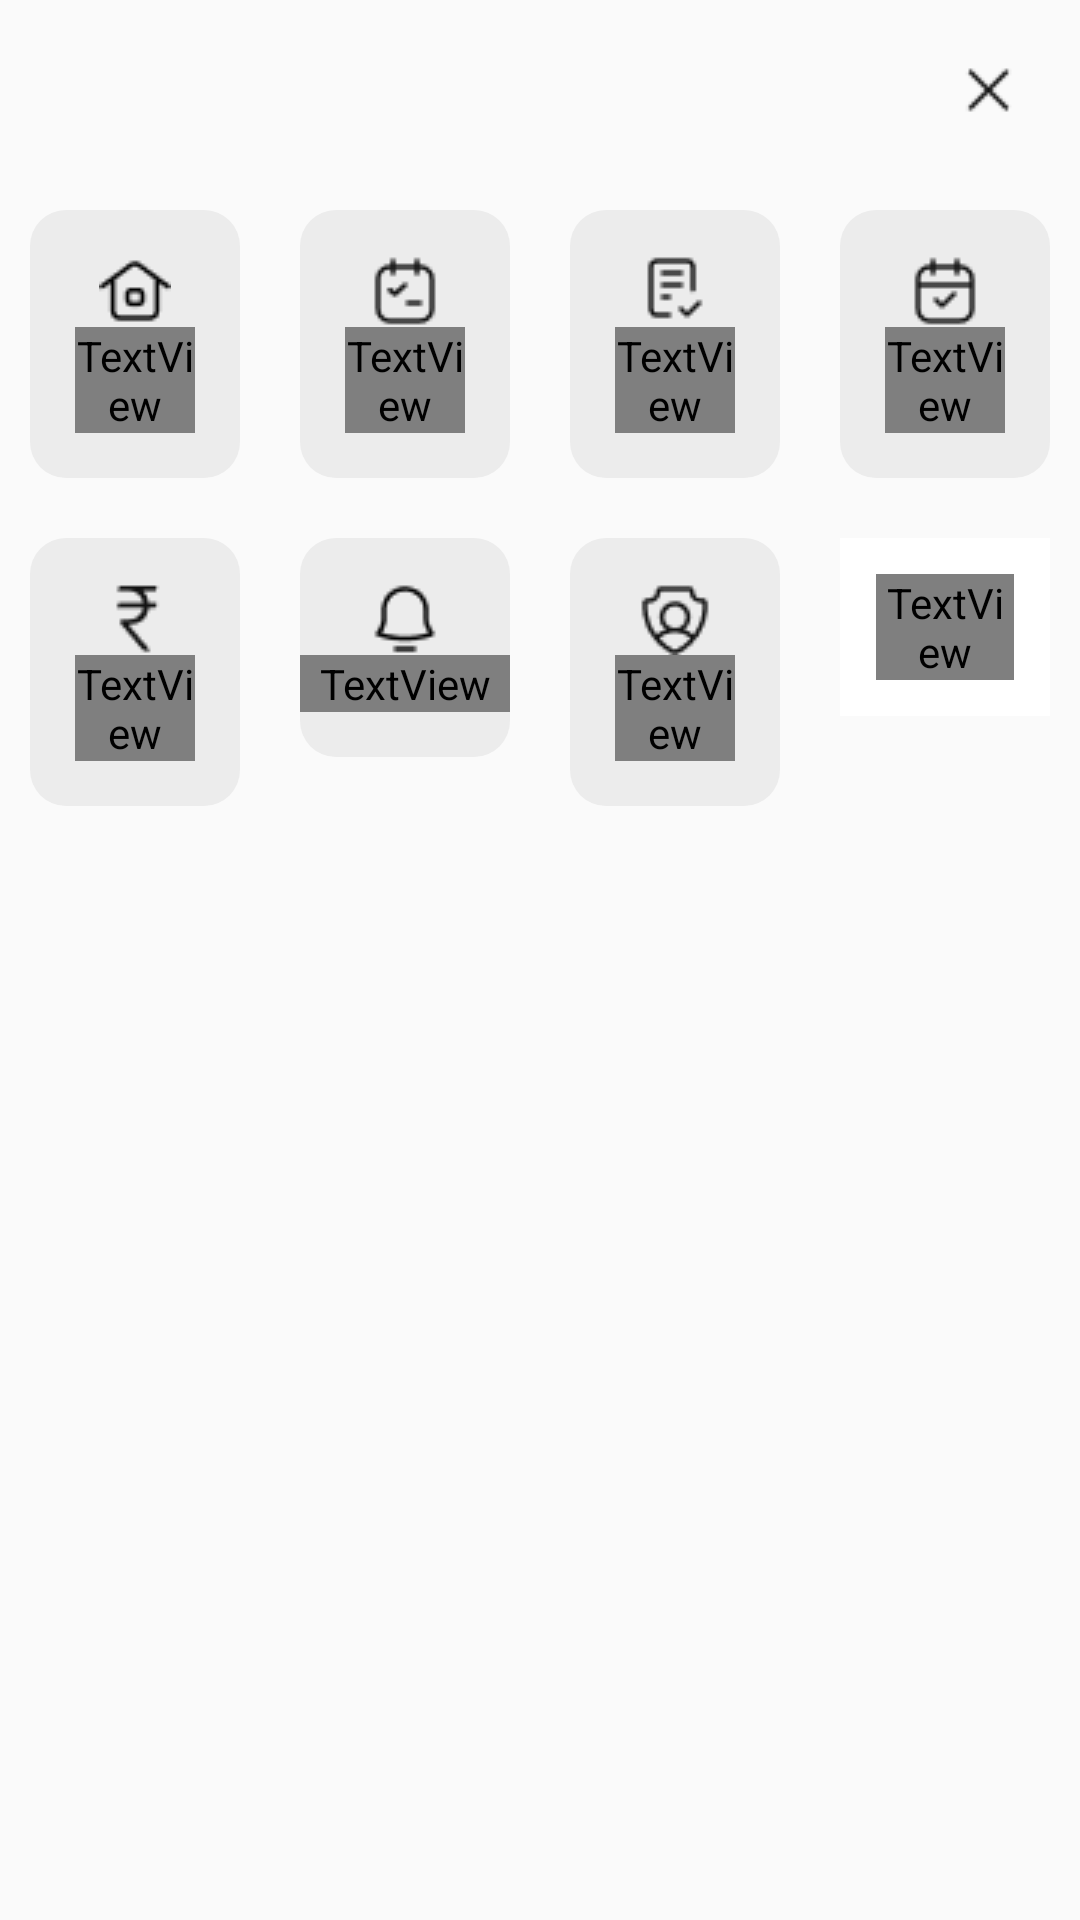

Screen size 1080px x 1920px. Icon name, then its center in pixels as point (x, y):
cross: point (988, 90)
